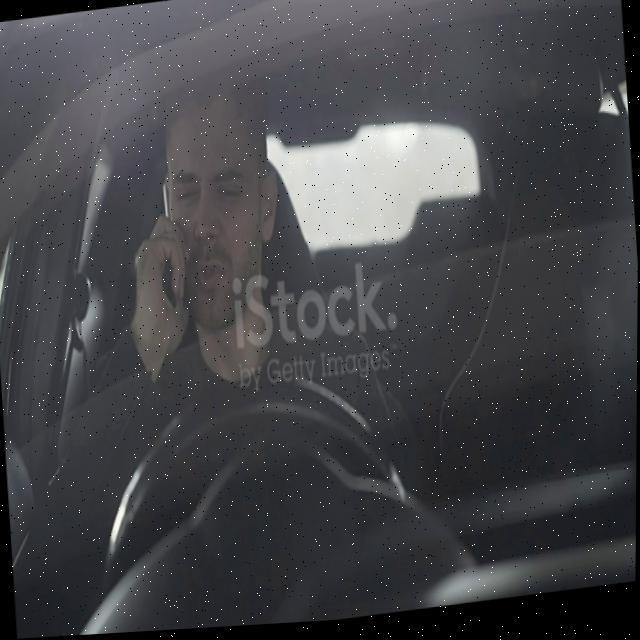PhoneCall: (154, 178, 186, 306)
